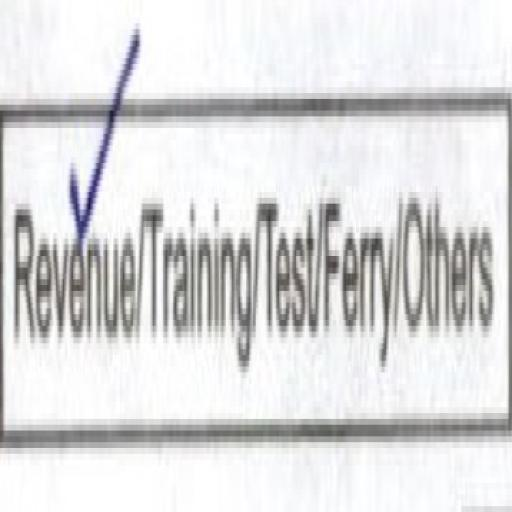check: (3, 52, 140, 512)
